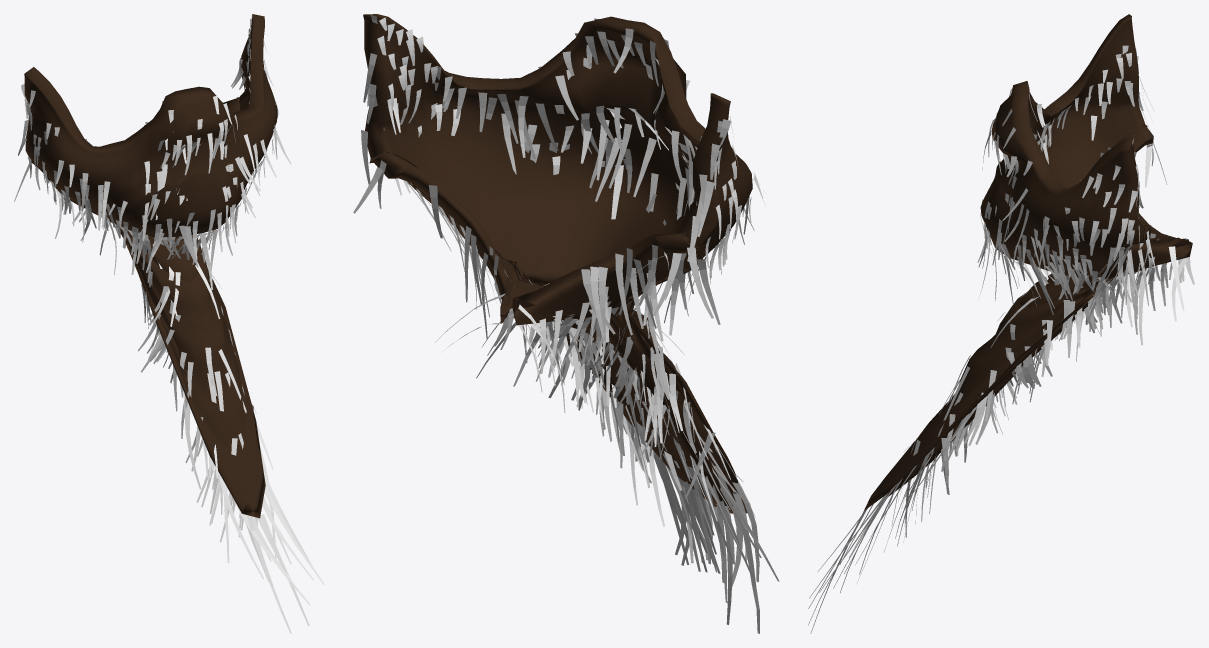
File: beard-warden-braided.glb
3 views of the same model, side by side, from view 1: azimuth 30°, elevation 25°; view 2: azimuth 150°, elevation 25°; view 3: azimuth 270°, elevation 25° (orthographic). The views are drawn at different scales.
Parts seen in each view (by area): view 1: beard-warden-braided_1, beard__strands; view 2: beard-warden-braided_1, beard__strands; view 3: beard-warden-braided_1, beard__strands.
Boxes of the visible parts, <box> form: beard-warden-braided_1: <box>24,14,277,518</box>; beard__strands: <box>14,15,324,633</box>; beard-warden-braided_1: <box>363,14,752,513</box>; beard__strands: <box>353,15,779,633</box>; beard-warden-braided_1: <box>864,14,1192,510</box>; beard__strands: <box>808,45,1194,633</box>.
Size of the model in its own units: 0.1637 by 0.3145 by 0.2013.
